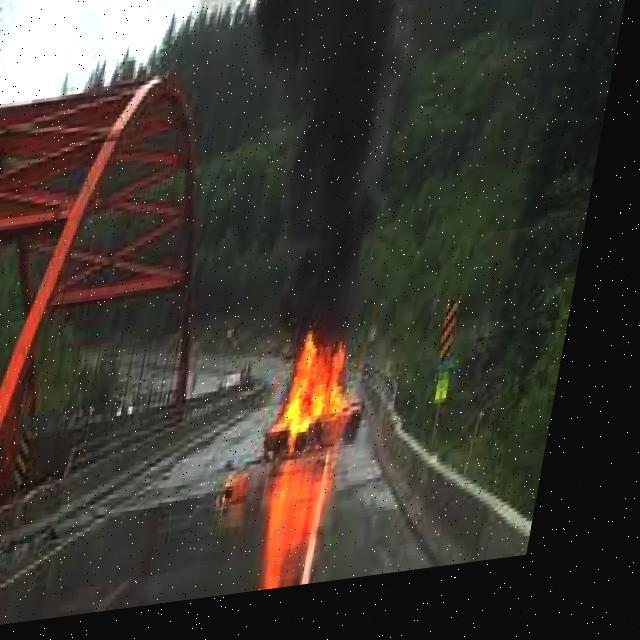Fire: (272, 326, 401, 482)
